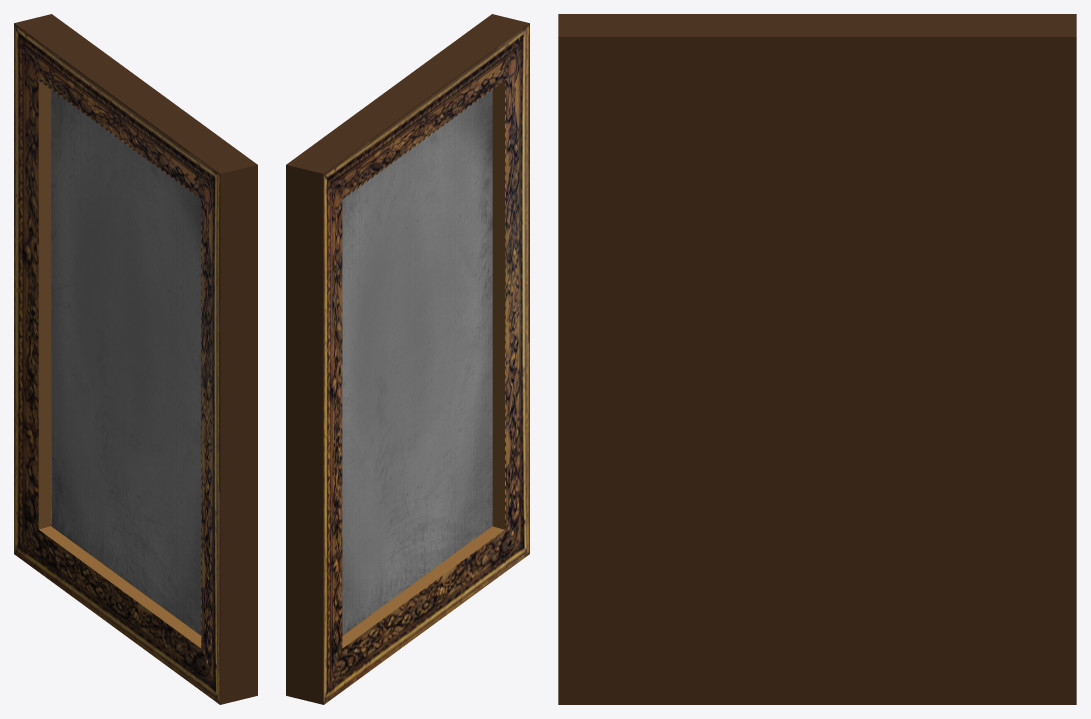
Rendered from goldenpainting_model.FBX.
3 renders of one model, left to right at view 1: azimuth 30°, elevation 25°; view 2: azimuth 150°, elevation 25°; view 3: azimuth 270°, elevation 25°, orthographic. The views are drawn at different scales.
Visible parts, largest first — view 1: Painting_gold; view 2: Painting_gold; view 3: Painting_gold.
Boxes of the visible parts, x1,y1,x2,y2 form: Painting_gold: [14, 14, 257, 704]; Painting_gold: [286, 14, 529, 704]; Painting_gold: [558, 14, 1076, 704].
Size of the model in its own units: 2.44 by 32.87 by 23.12.
Materials: 1 (1 with a texture image).
